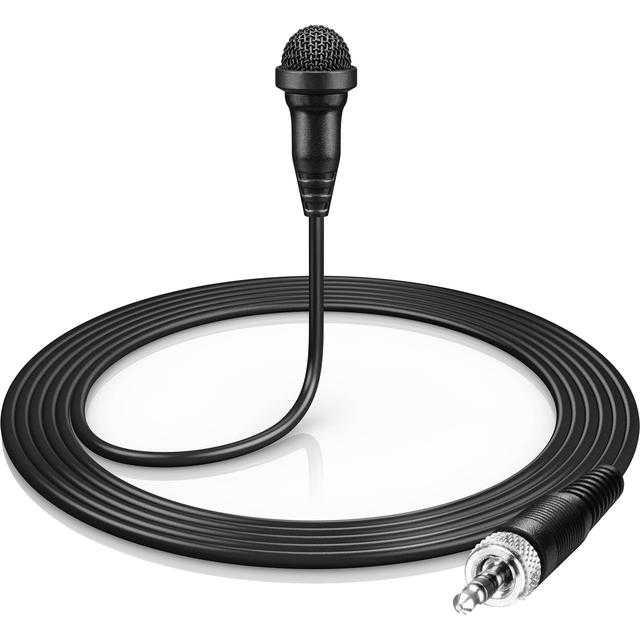microphone: (277, 27, 357, 227)
